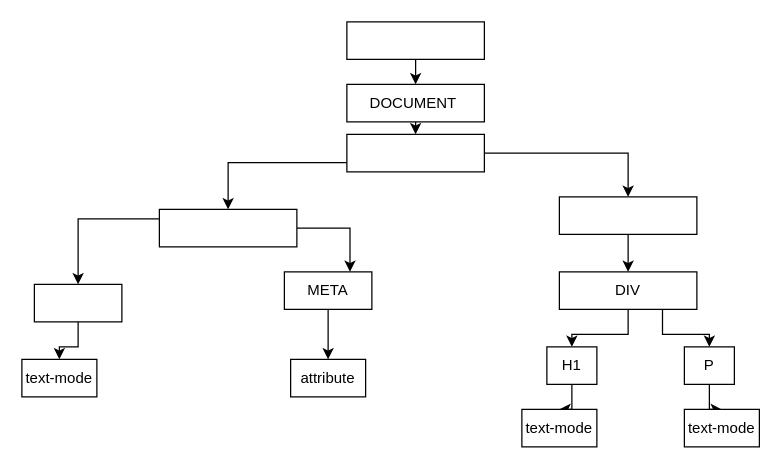
This 781x469 diagram has some shape labels left out. Each missing label, with the box of its shape:
BODY: (558, 196, 697, 234)
HEAD: (158, 208, 297, 247)
HTML: (346, 133, 484, 172)
TITLE: (33, 283, 122, 322)
WINDOW: (346, 21, 484, 59)
